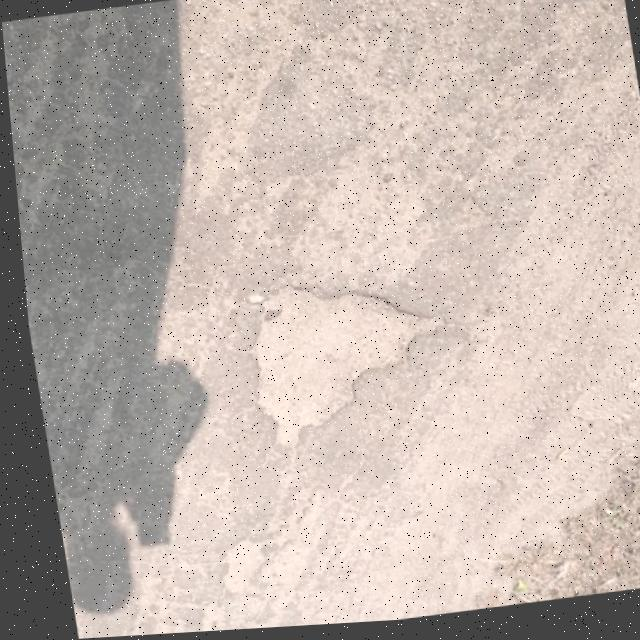Pothole: (222, 270, 458, 463), (201, 538, 272, 603)
